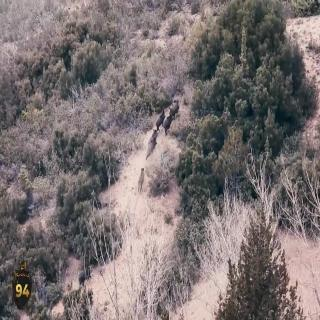Pig: (136, 164, 148, 194), (160, 110, 173, 130), (149, 130, 160, 152), (168, 90, 180, 108), (157, 106, 163, 136)
